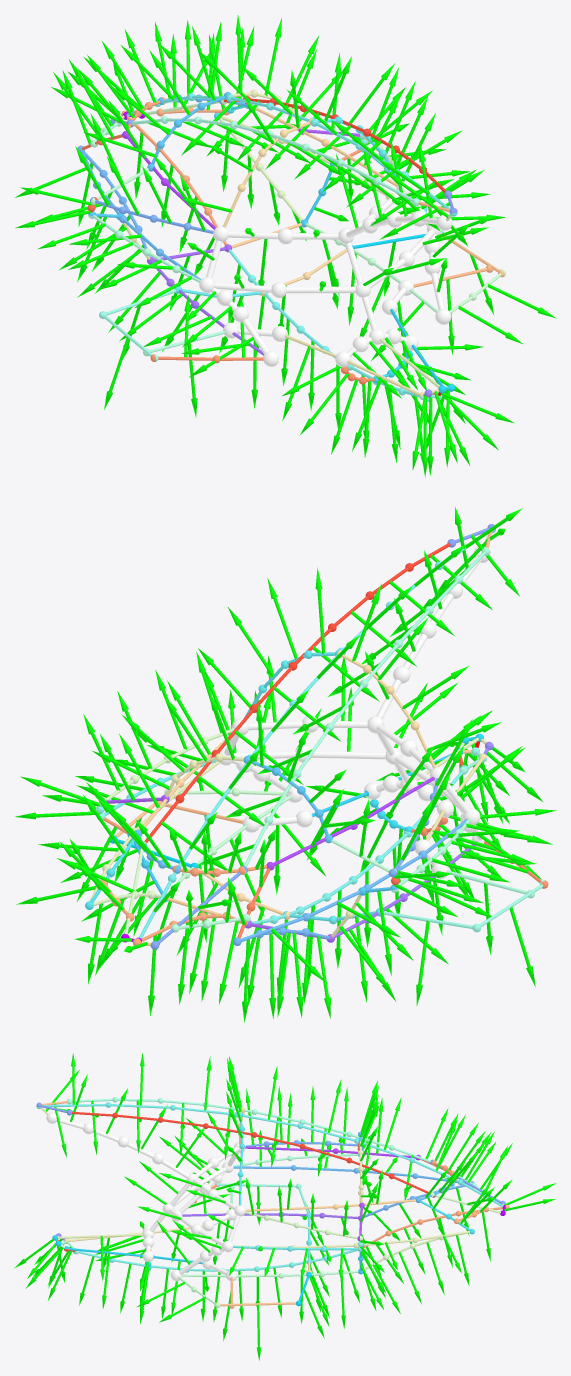
The model's file is ils_spacecraft_78.gltf.
3 renders of one model, top to bottom at view 1: azimuth 30°, elevation 25°; view 2: azimuth 150°, elevation 25°; view 3: azimuth 270°, elevation 25°, orthographic. The views are drawn at different scales.
Bounding box in the file's own units: 0.5834 × 0.4866 × 0.9401.
